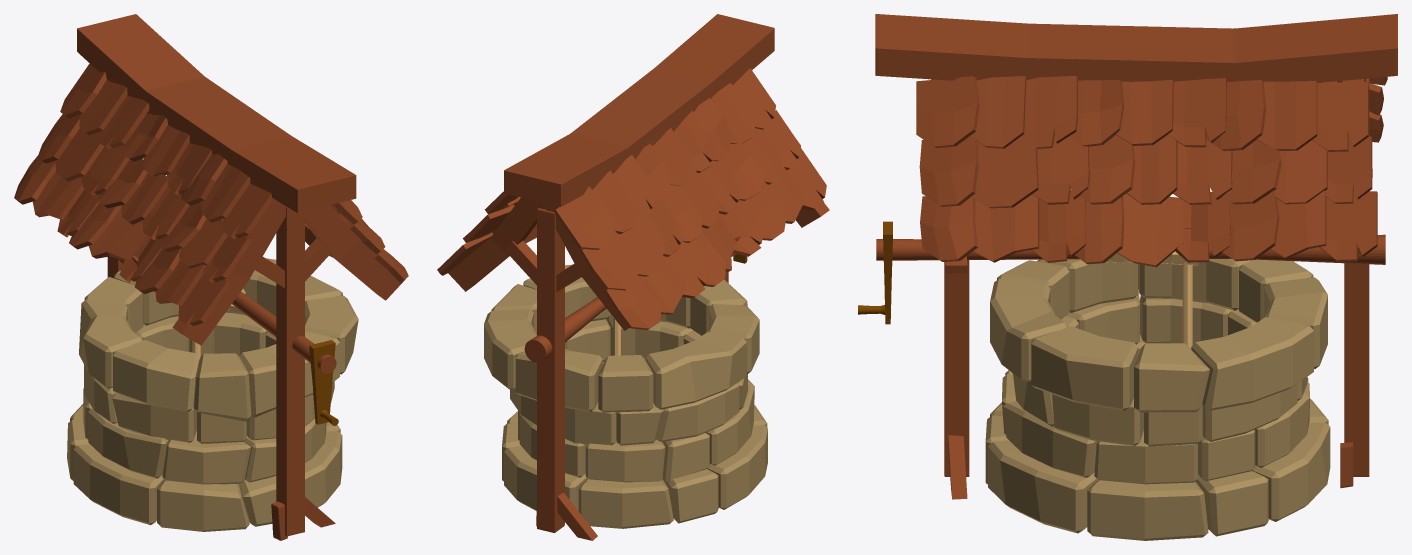
Rendered from well.fbx.
The picture shows the model from 3 angles, left to right: view 1: azimuth 30°, elevation 25°; view 2: azimuth 150°, elevation 25°; view 3: azimuth 270°, elevation 25°; orthographic projection. The views are drawn at different scales.
Parts seen in each view (by area): view 1: Cube.003, Cube.010, Cube, Cube.002, Cube.001, Cube.005, Plane.012, Plane.010, Plane.013, Plane.014, Plane.011, Plane.018 (+13 smaller); view 2: Cube.003, Cube.010, Cube, Cube.002, Cube.004, Cube.001, Plane.010, Plane.013, Plane.016, Plane.012, Plane.011, Plane.014 (+11 smaller); view 3: Cube.003, Cube.010, Cube, Cube.002, Plane, Cube.001, Plane.003, Plane.002, Plane.001, Plane.006, Plane.007, Plane.008 (+11 smaller).
Part boxes in pixels (box(x1,y1,x2,y2)): Cube.003: box(79, 258, 358, 421); Cube.010: box(77, 14, 356, 212); Cube: box(67, 404, 342, 531); Cube.002: box(84, 312, 334, 443); Cube.001: box(83, 388, 326, 484); Cube.005: box(276, 206, 304, 536); Plane.012: box(181, 154, 273, 239); Plane.010: box(60, 63, 149, 149); Plane.013: box(37, 114, 129, 195); Plane.014: box(98, 159, 189, 240); Plane.011: box(123, 113, 211, 195); Plane.018: box(134, 248, 230, 325); Cube.003: box(484, 264, 759, 412); Cube.010: box(504, 14, 774, 206); Cube: box(502, 405, 767, 528); Cube.002: box(510, 314, 747, 445); Cube.004: box(537, 208, 564, 532); Cube.001: box(519, 355, 754, 482); Plane.010: box(553, 155, 656, 249); Plane.013: box(580, 197, 683, 290); Plane.016: box(604, 241, 708, 329); Plane.012: box(693, 68, 775, 161); Plane.011: box(635, 110, 714, 201); Plane.014: box(662, 159, 741, 242); Cube.003: box(990, 259, 1327, 410); Cube.010: box(875, 14, 1397, 82); Cube: box(985, 398, 1330, 540); Cube.002: box(1012, 290, 1307, 446); Plane: box(916, 76, 1077, 148); Cube.001: box(1002, 334, 1309, 484); Plane.003: box(919, 135, 1089, 208); Plane.002: box(1206, 80, 1368, 151); Plane.001: box(1068, 78, 1226, 147); Plane.006: box(920, 190, 1086, 262); Plane.007: box(1068, 190, 1230, 267); Plane.008: box(1222, 190, 1377, 261).
Size of the model in its own units: 1239 by 1807 by 1973.
